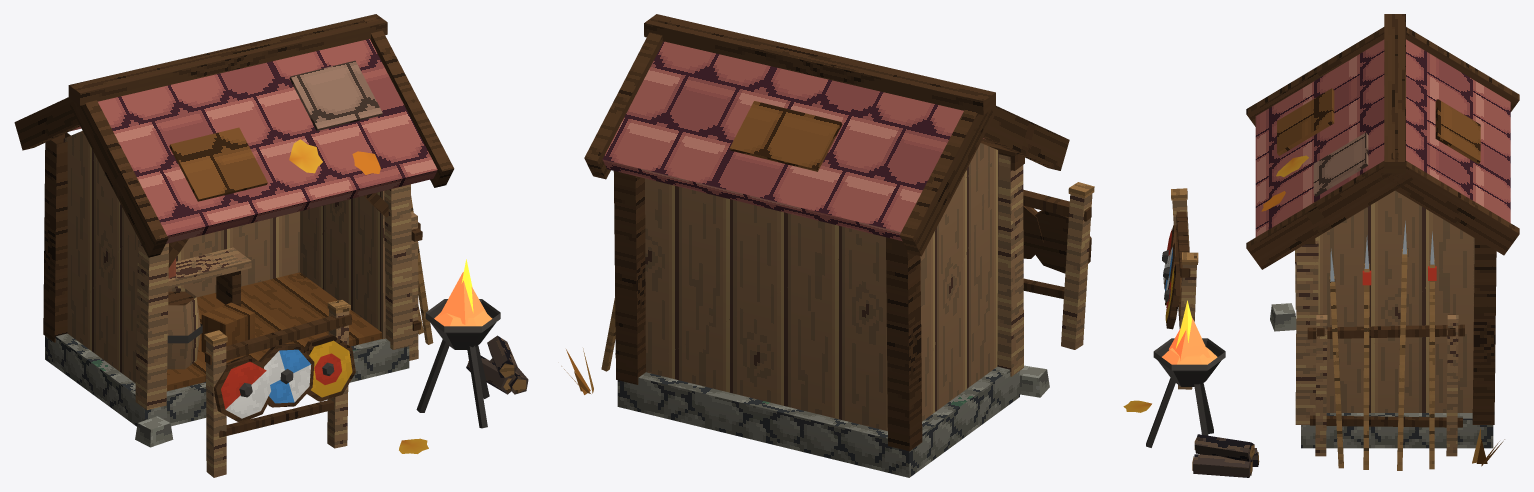
The model's file is guard_station.glb.
The picture shows the model from 3 angles, left to right: view 1: azimuth 30°, elevation 25°; view 2: azimuth 150°, elevation 25°; view 3: azimuth 270°, elevation 25°; orthographic projection. The views are drawn at different scales.
Visible parts, largest first — view 1: guard_station, glow_fire; view 2: guard_station; view 3: guard_station, glow_fire.
Part boxes in pixels (<box>): guard_station: <box>14,14,528,477</box>; glow_fire: <box>434,259,492,326</box>; guard_station: <box>561,14,1094,477</box>; guard_station: <box>1123,14,1519,477</box>; glow_fire: <box>1162,300,1217,364</box>.
Bounding box in the file's own units: 3.63 × 3.05 × 3.63.
Materials: 27 (16 with a texture image).
